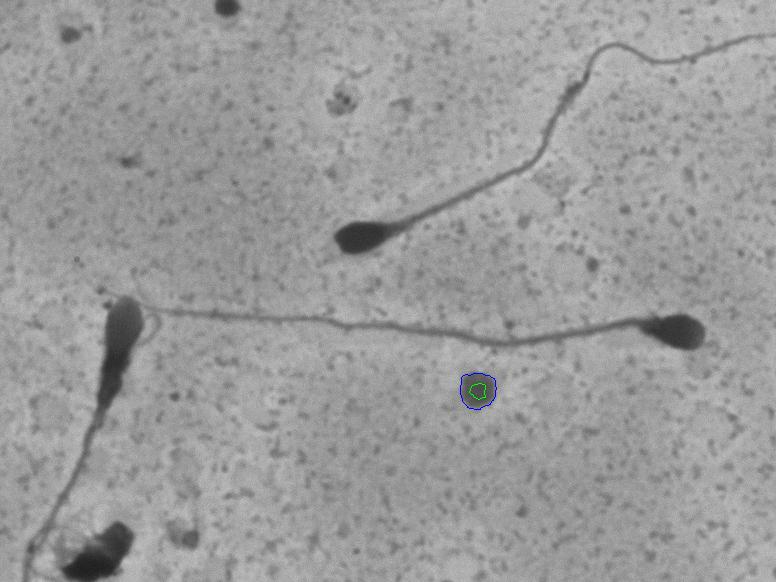Abnormal: (310, 17, 705, 256), (137, 258, 728, 388), (15, 273, 230, 531)
